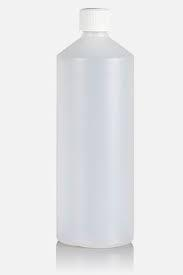Container for household chemicals: (52, 7, 148, 265)
